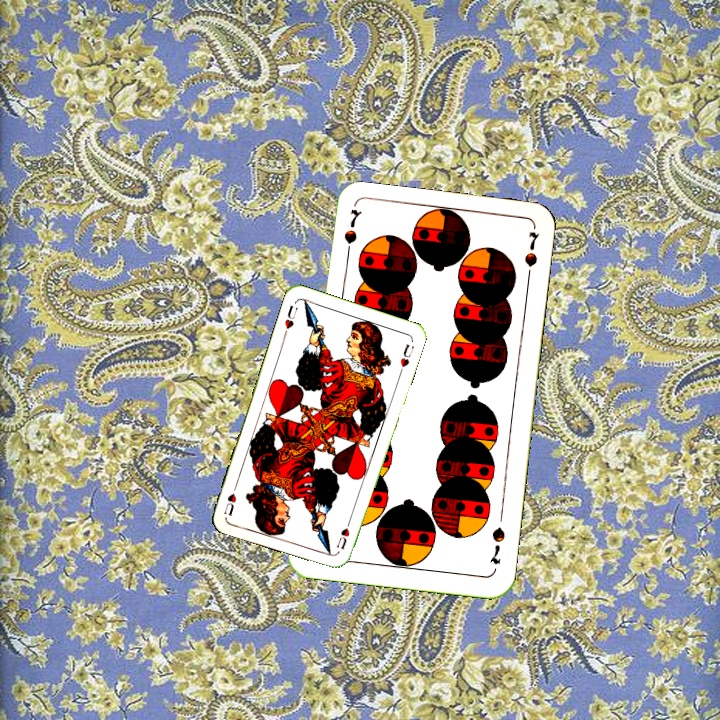HU: (280, 301, 301, 338), (333, 524, 352, 552)
S7: (340, 205, 361, 264), (485, 523, 508, 567)
